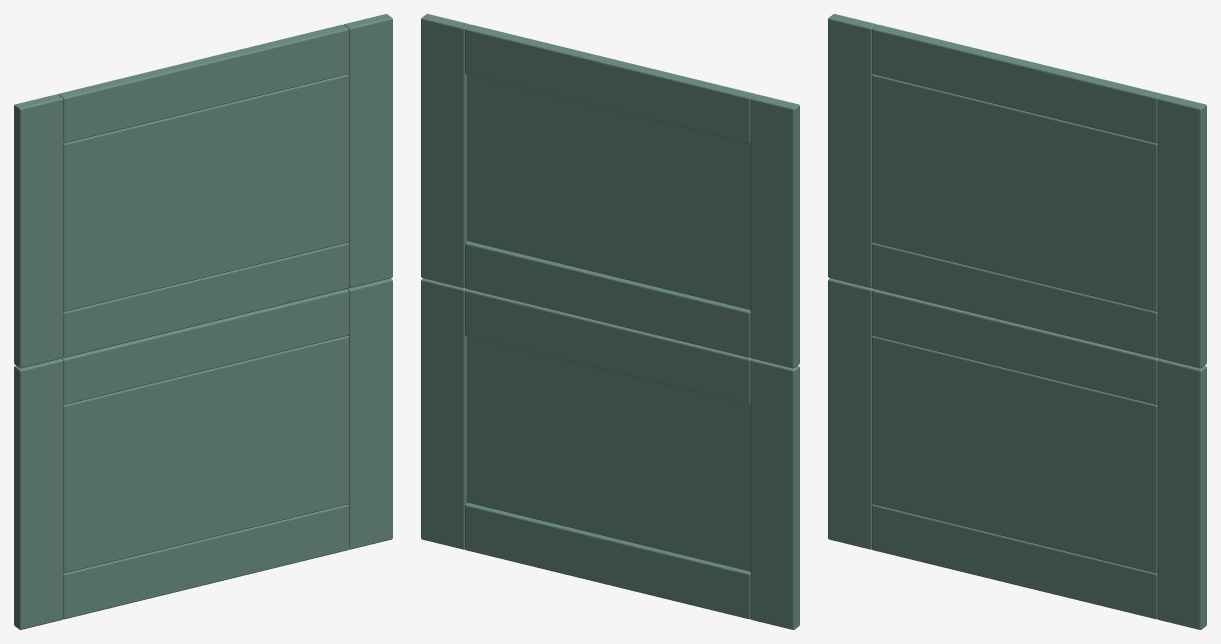
The model's file is DRAWERS_2_600x800.glb.
The picture shows the model from 3 angles, left to right: view 1: azimuth 30°, elevation 25°; view 2: azimuth 150°, elevation 25°; view 3: azimuth 330°, elevation 25°; orthographic projection.
Parts seen in each view (by area): view 1: front_panel_01_center, front_panel_02_center, front_panel_01_top, front_panel_02_top, front_panel_02_bottom, front_panel_01_bottom, front_panel_01_left, front_panel_02_left, front_panel_01_right, front_panel_02_right; view 2: front_panel_01_center, front_panel_02_center, front_panel_01_top, front_panel_02_bottom, front_panel_01_bottom, front_panel_02_top, front_panel_01_left, front_panel_02_left, front_panel_01_right, front_panel_02_right; view 3: front_panel_01_center, front_panel_02_center, front_panel_01_top, front_panel_02_top, front_panel_02_bottom, front_panel_01_bottom, front_panel_01_right, front_panel_02_right, front_panel_01_left, front_panel_02_left.
Part boxes in pixels (bbox=[...]): front_panel_01_center: bbox=[63, 74, 348, 311]; front_panel_02_center: bbox=[63, 336, 348, 573]; front_panel_01_top: bbox=[58, 24, 348, 143]; front_panel_02_top: bbox=[61, 289, 348, 404]; front_panel_02_bottom: bbox=[63, 504, 348, 619]; front_panel_01_bottom: bbox=[63, 243, 348, 357]; front_panel_01_left: bbox=[14, 94, 63, 368]; front_panel_02_left: bbox=[14, 358, 63, 629]; front_panel_01_right: bbox=[344, 14, 392, 287]; front_panel_02_right: bbox=[347, 278, 392, 549]; front_panel_01_center: bbox=[467, 74, 750, 309]; front_panel_02_center: bbox=[467, 336, 750, 571]; front_panel_01_top: bbox=[465, 24, 755, 143]; front_panel_02_bottom: bbox=[465, 503, 750, 619]; front_panel_01_bottom: bbox=[465, 241, 750, 357]; front_panel_02_top: bbox=[465, 289, 752, 404]; front_panel_01_left: bbox=[750, 94, 799, 368]; front_panel_02_left: bbox=[750, 358, 799, 629]; front_panel_01_right: bbox=[421, 14, 469, 287]; front_panel_02_right: bbox=[421, 278, 467, 549]; front_panel_01_center: bbox=[872, 74, 1157, 311]; front_panel_02_center: bbox=[872, 336, 1157, 573]; front_panel_01_top: bbox=[872, 24, 1162, 143]; front_panel_02_top: bbox=[872, 289, 1159, 404]; front_panel_02_bottom: bbox=[872, 504, 1157, 619]; front_panel_01_bottom: bbox=[872, 243, 1157, 357]; front_panel_01_right: bbox=[1157, 94, 1206, 368]; front_panel_02_right: bbox=[1157, 358, 1206, 629]; front_panel_01_left: bbox=[828, 14, 876, 287]; front_panel_02_left: bbox=[828, 278, 873, 549].
Size of the model in its own units: 0.596 by 0.796 by 0.018.
